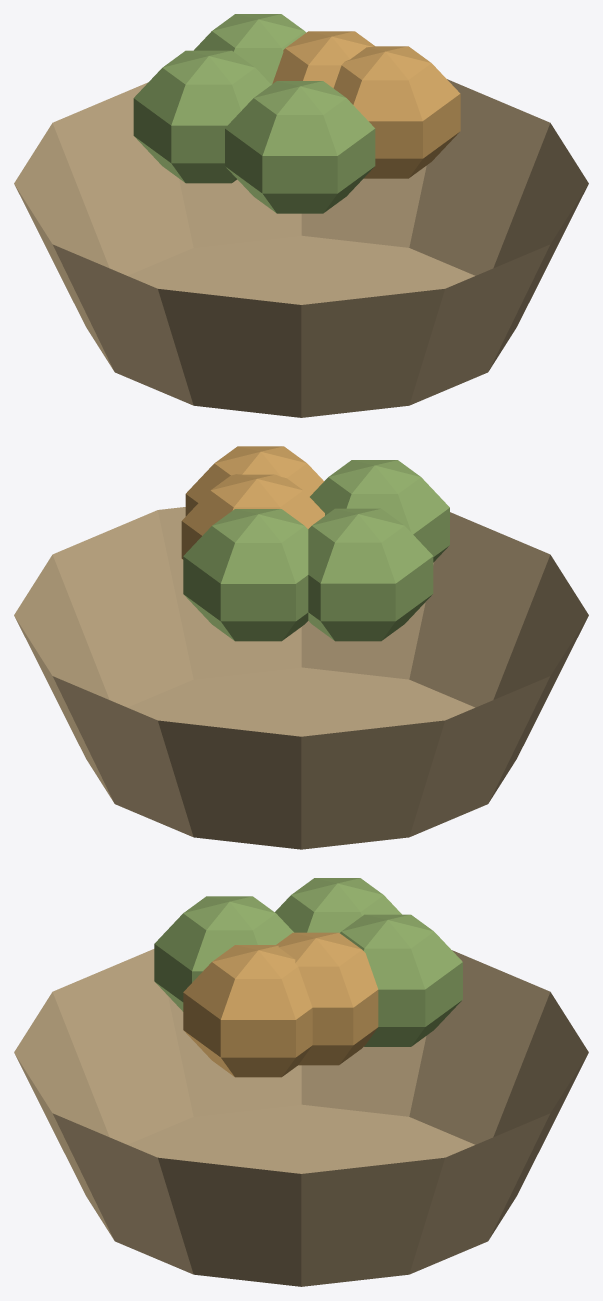
Rendered from veg_basket.glb.
3 views of the same model, one above another, from view 1: azimuth 30°, elevation 25°; view 2: azimuth 150°, elevation 25°; view 3: azimuth 270°, elevation 25° (orthographic).
Parts seen in each view (by area): view 1: veg_basket, veg_basket_v4, veg_basket_v0, veg_basket_v1, veg_basket_v2, veg_basket_v3; view 2: veg_basket, veg_basket_v0, veg_basket_v2, veg_basket_v4, veg_basket_v3, veg_basket_v1; view 3: veg_basket, veg_basket_v1, veg_basket_v2, veg_basket_v3, veg_basket_v4, veg_basket_v0.
Part boxes in pixels (bbox=[...]): veg_basket: bbox=[14, 79, 588, 417]; veg_basket_v4: bbox=[225, 81, 375, 213]; veg_basket_v0: bbox=[133, 50, 271, 183]; veg_basket_v1: bbox=[333, 46, 460, 178]; veg_basket_v2: bbox=[194, 14, 306, 84]; veg_basket_v3: bbox=[272, 31, 374, 88]; veg_basket: bbox=[14, 507, 588, 849]; veg_basket_v0: bbox=[308, 508, 433, 641]; veg_basket_v2: bbox=[183, 509, 308, 641]; veg_basket_v4: bbox=[310, 460, 449, 562]; veg_basket_v3: bbox=[181, 474, 324, 559]; veg_basket_v1: bbox=[185, 446, 323, 516]; veg_basket: bbox=[14, 949, 588, 1286]; veg_basket_v1: bbox=[183, 945, 312, 1077]; veg_basket_v2: bbox=[340, 914, 462, 1046]; veg_basket_v3: bbox=[276, 932, 378, 1065]; veg_basket_v4: bbox=[154, 896, 293, 1011]; veg_basket_v0: bbox=[275, 878, 401, 932].
Size of the model in its own units: 0.8 by 0.4235 by 0.8.
